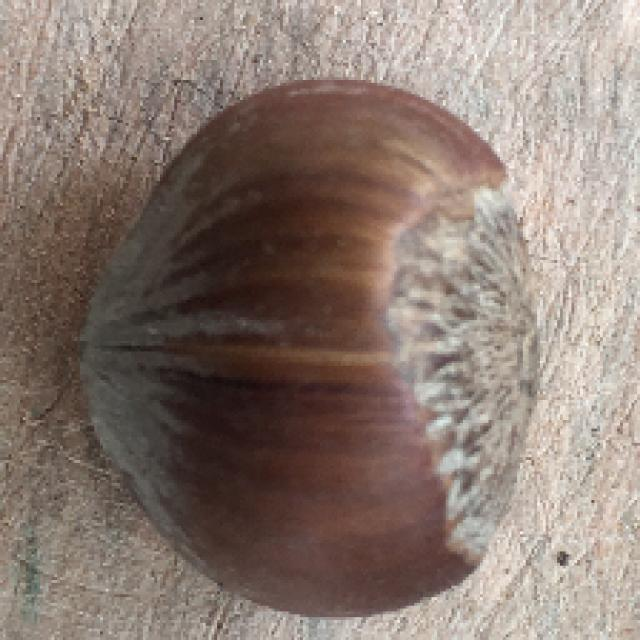qualityHazelnut: (76, 76, 546, 621)
